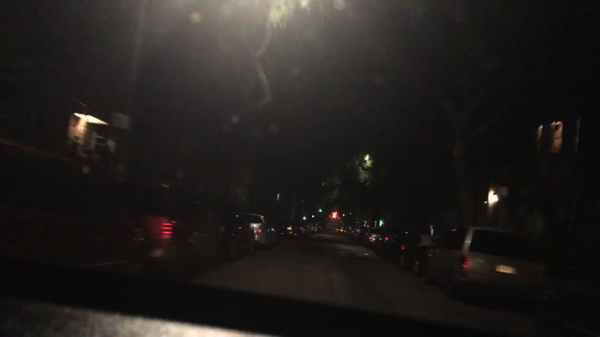car: (0, 136, 152, 279), (109, 178, 229, 279), (418, 225, 551, 303), (532, 257, 598, 336), (216, 202, 257, 263), (397, 234, 444, 277), (239, 212, 275, 250), (371, 227, 407, 261), (277, 221, 308, 242), (364, 227, 382, 248), (265, 222, 280, 247), (352, 227, 367, 244), (303, 221, 313, 237), (346, 228, 358, 240), (310, 221, 319, 234), (342, 226, 352, 237), (336, 226, 345, 235), (316, 222, 324, 232)
traffic light: (319, 206, 322, 212)
